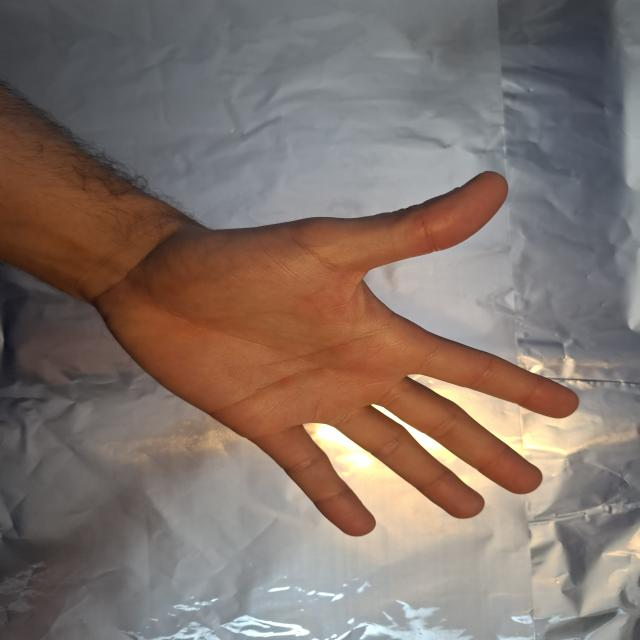glove_off: (85, 169, 583, 538)
